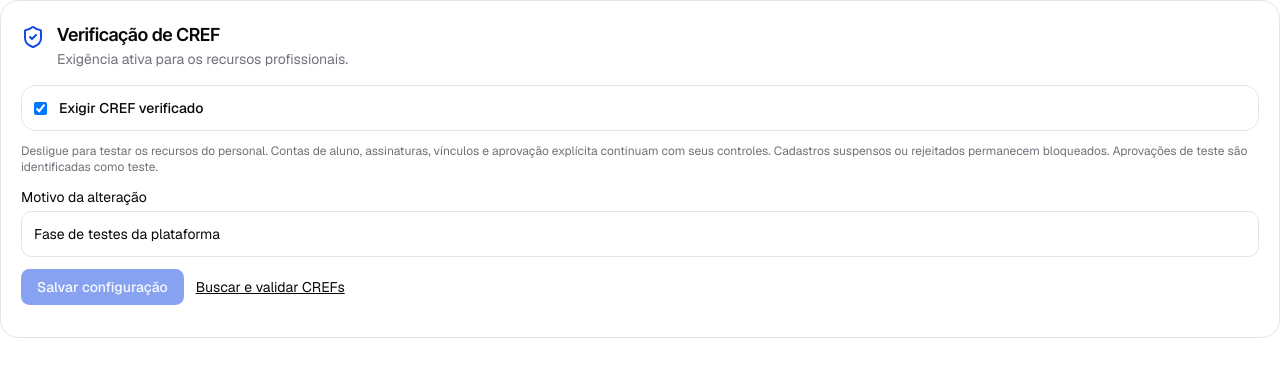
Scenario: Admin CREF controls › keeps the pending selection visible when the backend rejects a stale revision
What coordinates should you click on to do the following:
click the switch
I would click on:
 (40, 108)
Its box is [34,102,47,114].
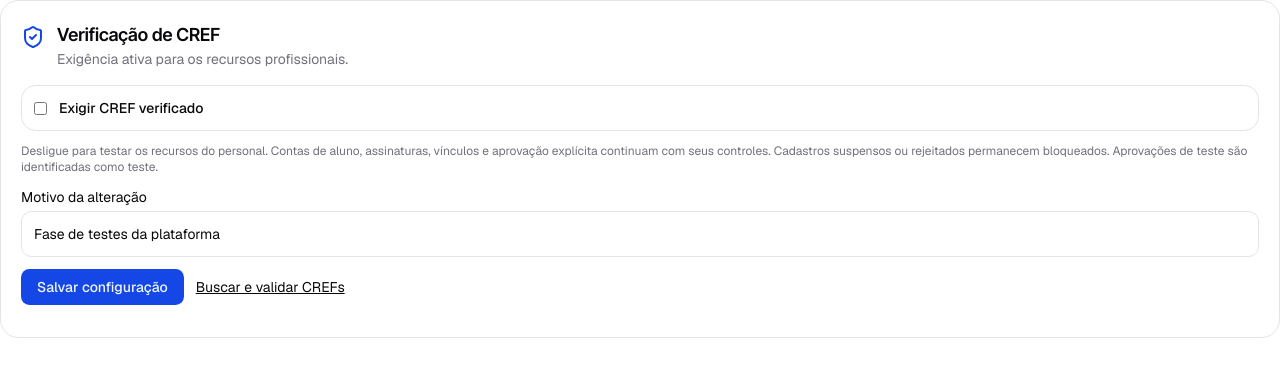
What coordinates should you click on to do the following:
click the button "Salvar configuração"
I would click on:
 (102, 287)
Its box is [21,269,184,305].
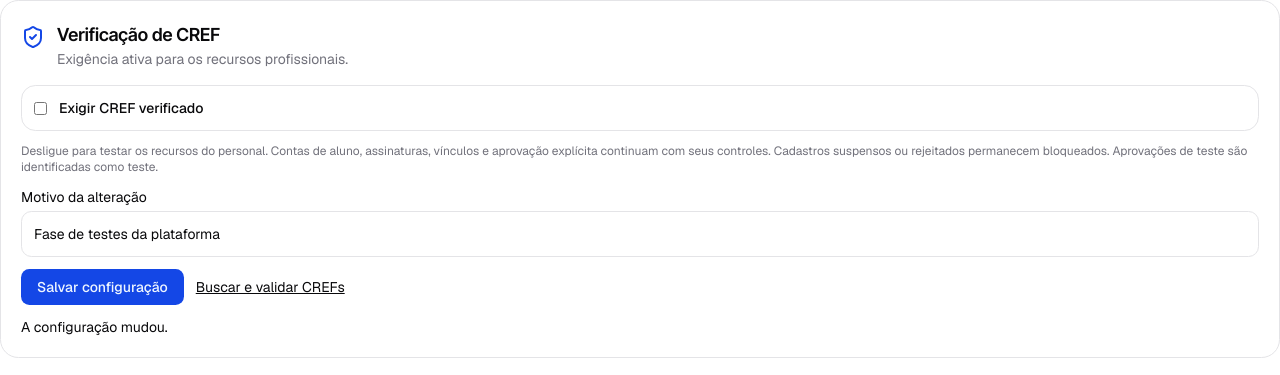
expect the text "A configuração mudou." is shown: met, box [21,318,168,336]
